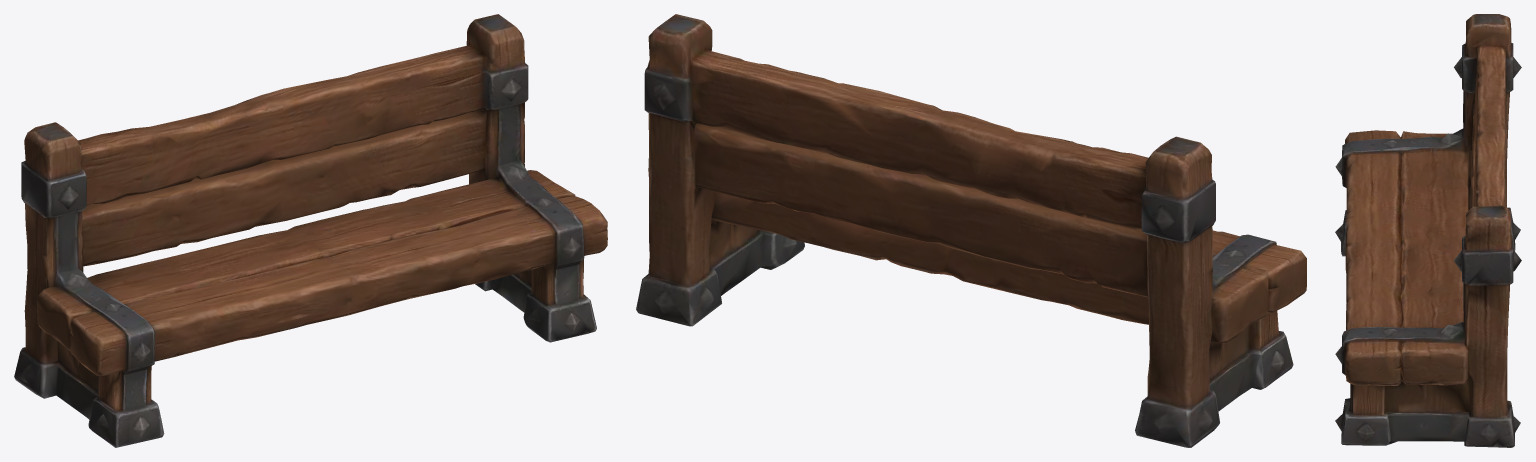
The model's file is bench.glb.
3 views of the same model, side by side, from view 1: azimuth 30°, elevation 25°; view 2: azimuth 150°, elevation 25°; view 3: azimuth 270°, elevation 25° (orthographic). The views are drawn at different scales.
Parts seen in each view (by area): view 1: tripo_node_b3f43f65-8e07-45d7-97f9-64ff1a812ec7; view 2: tripo_node_b3f43f65-8e07-45d7-97f9-64ff1a812ec7; view 3: tripo_node_b3f43f65-8e07-45d7-97f9-64ff1a812ec7.
Boxes of the visible parts, x1,y1,x2,y2 form: tripo_node_b3f43f65-8e07-45d7-97f9-64ff1a812ec7: (14, 14, 607, 447); tripo_node_b3f43f65-8e07-45d7-97f9-64ff1a812ec7: (636, 14, 1306, 447); tripo_node_b3f43f65-8e07-45d7-97f9-64ff1a812ec7: (1335, 14, 1521, 447).
Size of the model in its own units: 1 by 0.469 by 0.3521.
Materials: 1 (1 with a texture image).
